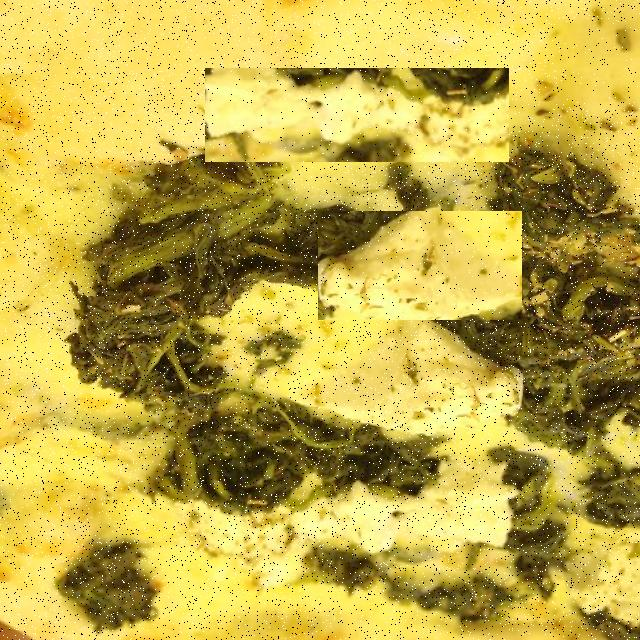Cheese: (205, 68, 509, 162), (318, 211, 522, 320), (559, 23, 640, 102)
